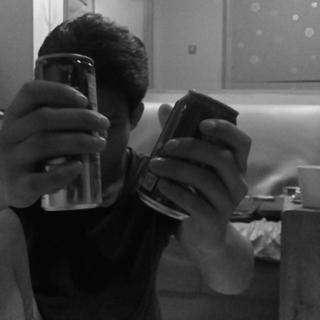alumunium_can: (135, 85, 241, 222), (31, 52, 102, 210)
